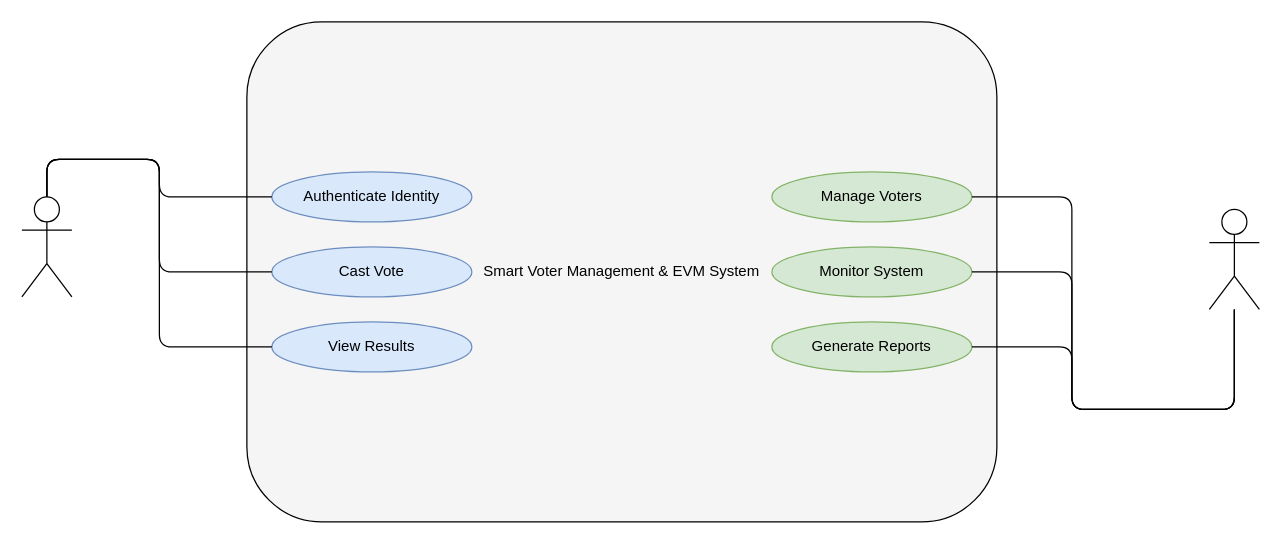
Some shapes in this 1284 by 544 pixel diagram are drawn without their labels. The centre of each missing label's shape, as x and y in pixels:
Admin: the point at 1233,258
Voter: the point at 46,246
